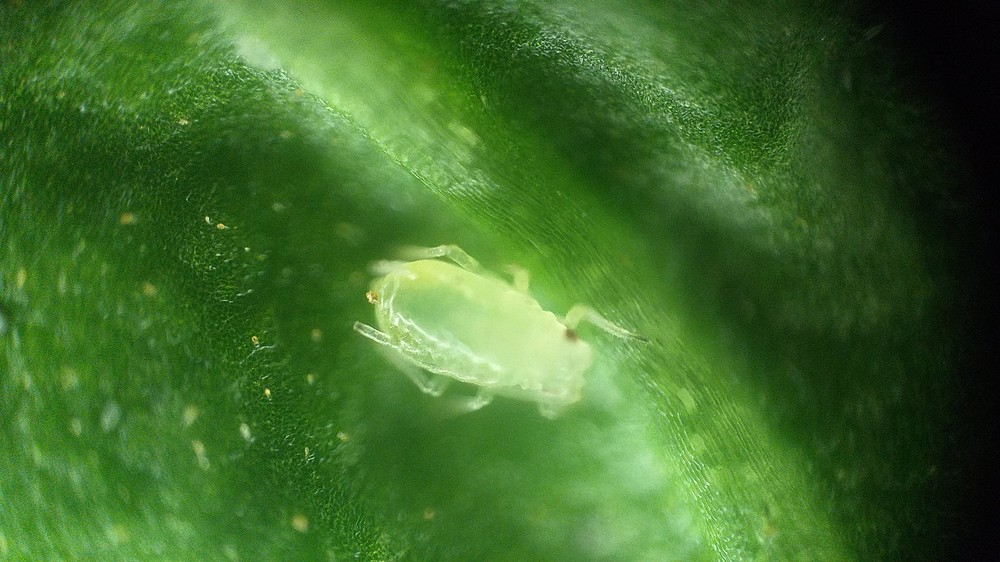Pulgon: (336, 231, 667, 459)
